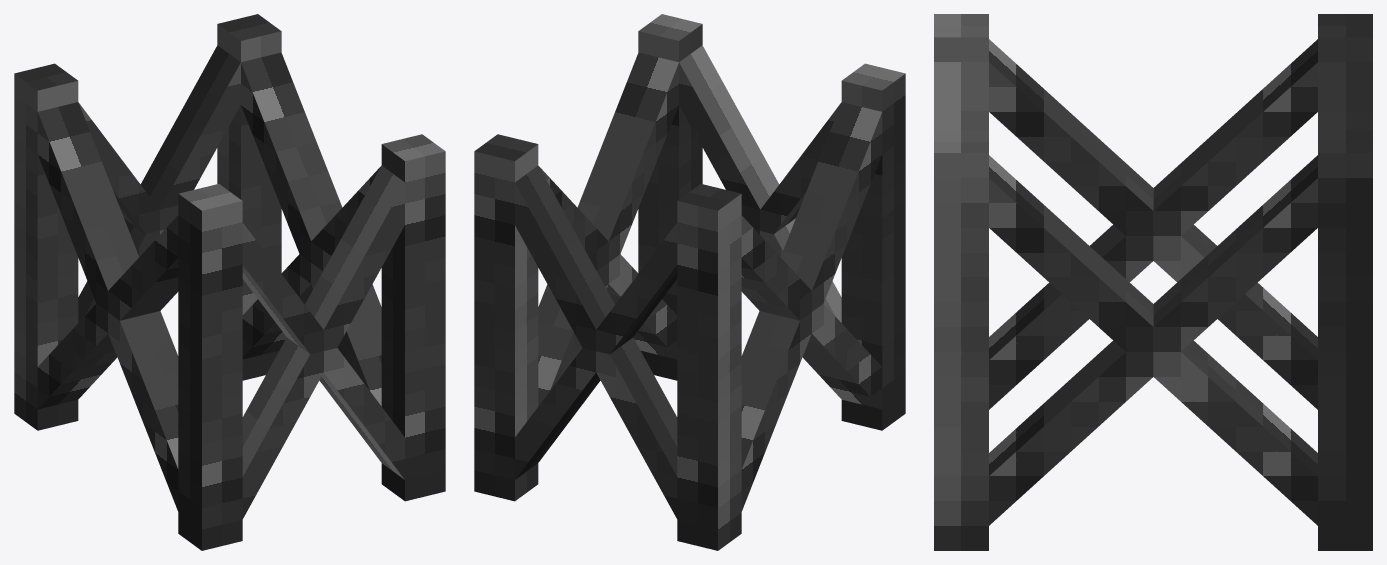
The model's file is scaffold.obj.
3 renders of one model, left to right at view 1: azimuth 30°, elevation 25°; view 2: azimuth 150°, elevation 25°; view 3: azimuth 270°, elevation 25°, orthographic. The views are drawn at different scales.
Visible parts, largest first — view 1: scaffold; view 2: scaffold; view 3: scaffold.
Part boxes in pixels (x1,y1,x2,y2): scaffold: (14, 14, 445, 550); scaffold: (474, 14, 905, 550); scaffold: (934, 14, 1372, 550).
Size of the model in its own units: 0.75 by 1 by 1.
